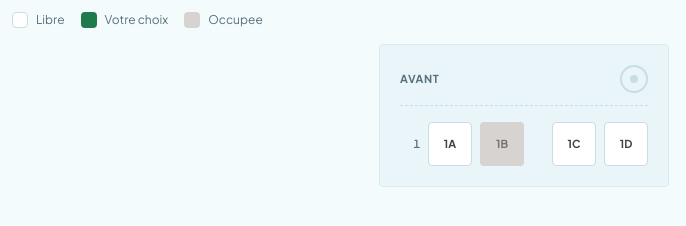
SeatPicker › remplace la plus ancienne selection une fois le nombre de voyageurs atteint
Click the button named "Place 1A".
click(450, 144)  # box [428, 122, 472, 166]
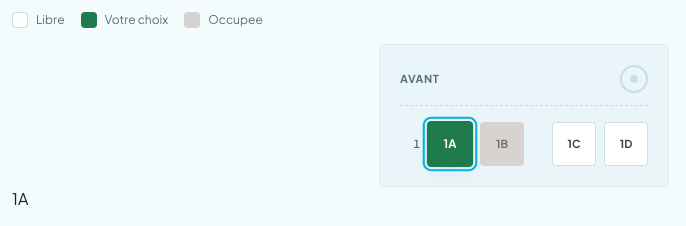
Click the button named "Place 1C".
click(574, 144)  # box [552, 122, 596, 166]
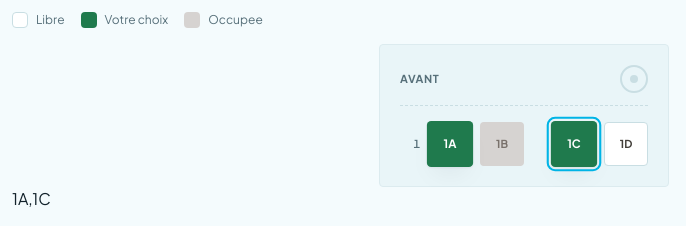
Click the button named "Place 1D".
click(626, 144)  # box [604, 122, 648, 166]
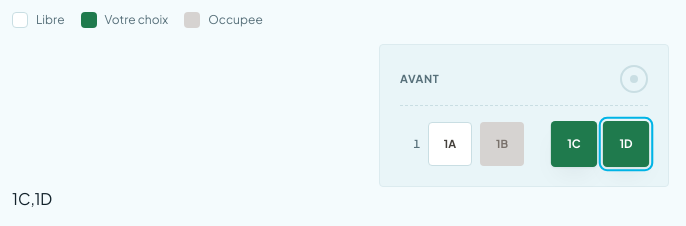
Result: the text with test id "selection" reads "1C,1D" at [12, 188, 52, 209]
